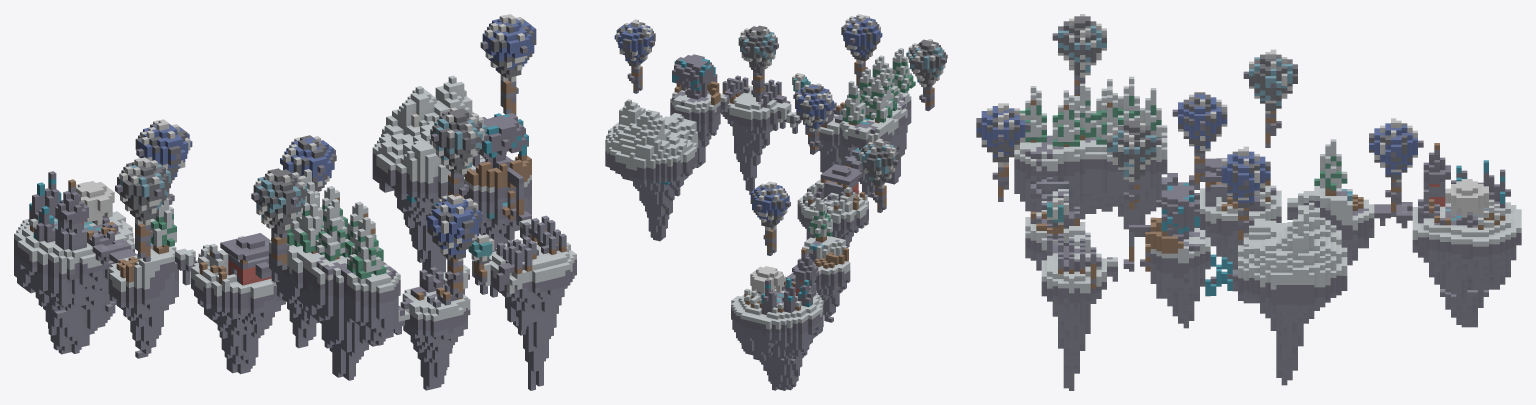
Rendered from frost-run.glb.
The picture shows the model from 3 angles, left to right: view 1: azimuth 30°, elevation 25°; view 2: azimuth 150°, elevation 25°; view 3: azimuth 270°, elevation 25°; orthographic projection. The views are drawn at different scales.
Visible parts, largest first — view 1: geometry_0; view 2: geometry_0; view 3: geometry_0.
Boxes of the visible parts, <box> form: geometry_0: <box>14,14,576,390</box>; geometry_0: <box>605,14,947,390</box>; geometry_0: <box>976,14,1521,390</box>.
Bounding box in the file's own units: 80 × 65 × 100.
